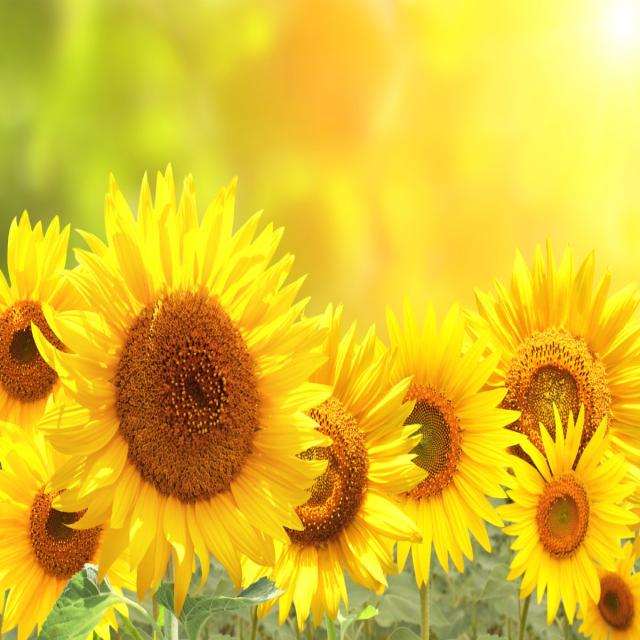sunflower: (28, 154, 334, 606), (247, 293, 431, 630), (339, 292, 530, 588), (457, 232, 640, 470), (507, 416, 640, 625), (0, 426, 114, 640), (0, 215, 103, 443), (575, 544, 640, 640)
